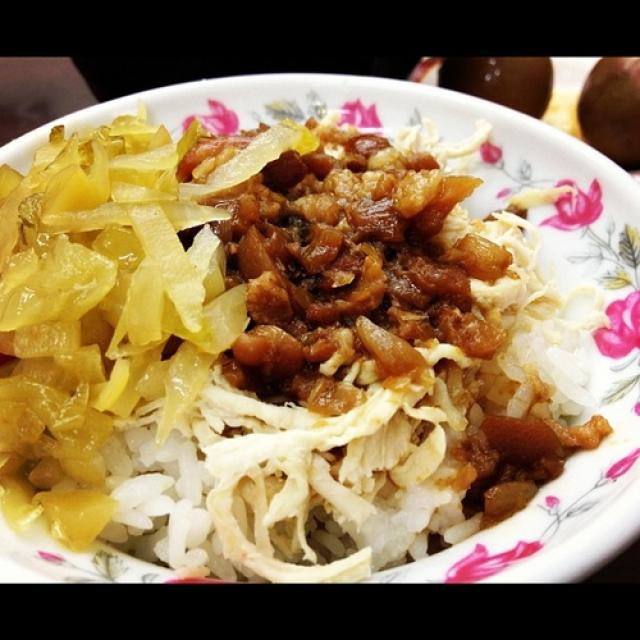猪肉菜式: (5, 50, 630, 589)
